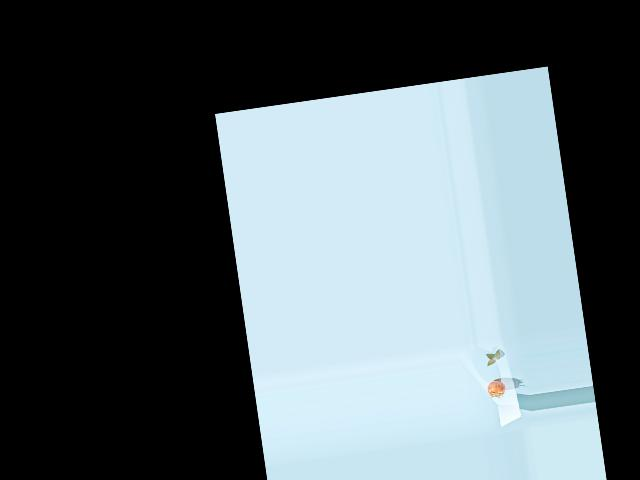tomato: (486, 379, 506, 398)
